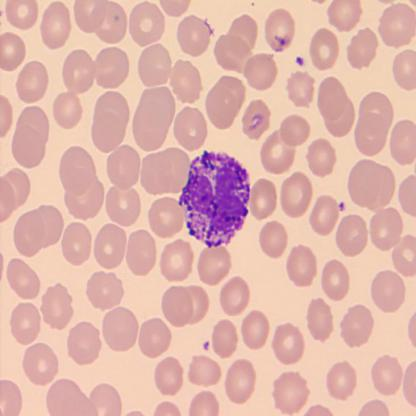Basophil: (177, 149, 252, 249)
